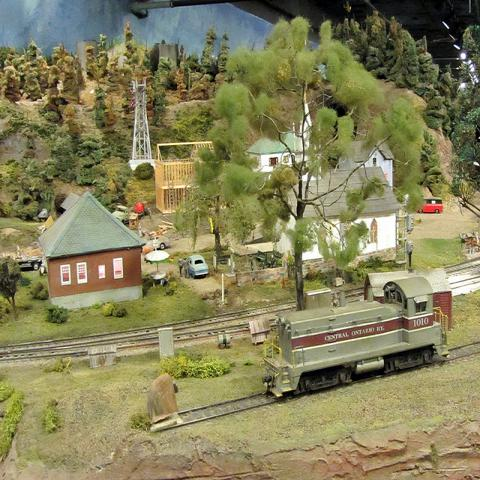car: (187, 254, 209, 280), (417, 197, 443, 214), (146, 234, 172, 251), (14, 257, 43, 272)
truck: (112, 201, 146, 225)
